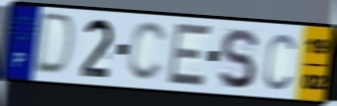2: (79, 17, 114, 80)
C: (126, 19, 170, 84), (262, 31, 297, 92)
D: (31, 11, 77, 79)
E: (165, 21, 214, 89)
S: (217, 26, 259, 90)
